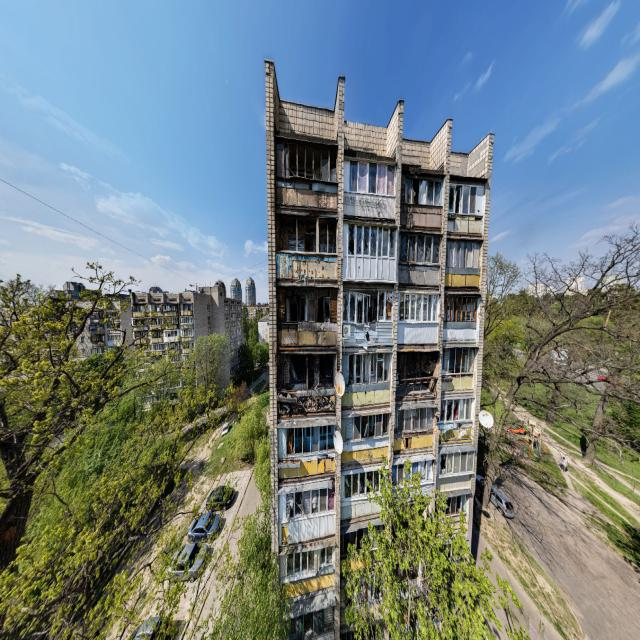broken_window: (344, 153, 397, 200), (343, 225, 401, 262), (345, 351, 392, 387), (284, 488, 335, 517), (401, 231, 443, 266), (353, 412, 390, 447), (345, 467, 381, 498), (450, 237, 483, 268), (443, 345, 476, 376), (393, 461, 435, 485), (441, 448, 475, 477), (437, 491, 467, 519), (444, 401, 475, 423), (451, 180, 466, 219)
building: (266, 60, 494, 640)
damage: (273, 131, 342, 483), (343, 283, 393, 355), (396, 346, 440, 407), (393, 429, 440, 458), (439, 423, 475, 454), (406, 159, 447, 180), (361, 449, 378, 464)
other: (0, 0, 640, 640), (0, 0, 273, 640), (469, 132, 640, 640), (342, 461, 474, 640), (273, 556, 292, 640)
roof: (280, 77, 345, 115), (343, 101, 402, 129), (429, 119, 452, 142), (470, 132, 490, 152), (266, 60, 279, 89), (447, 121, 453, 150), (402, 140, 429, 143), (402, 101, 404, 140), (453, 150, 470, 153), (343, 104, 344, 118)
